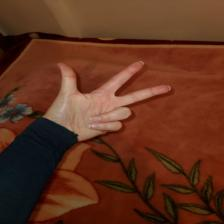three: (46, 59, 173, 135)
